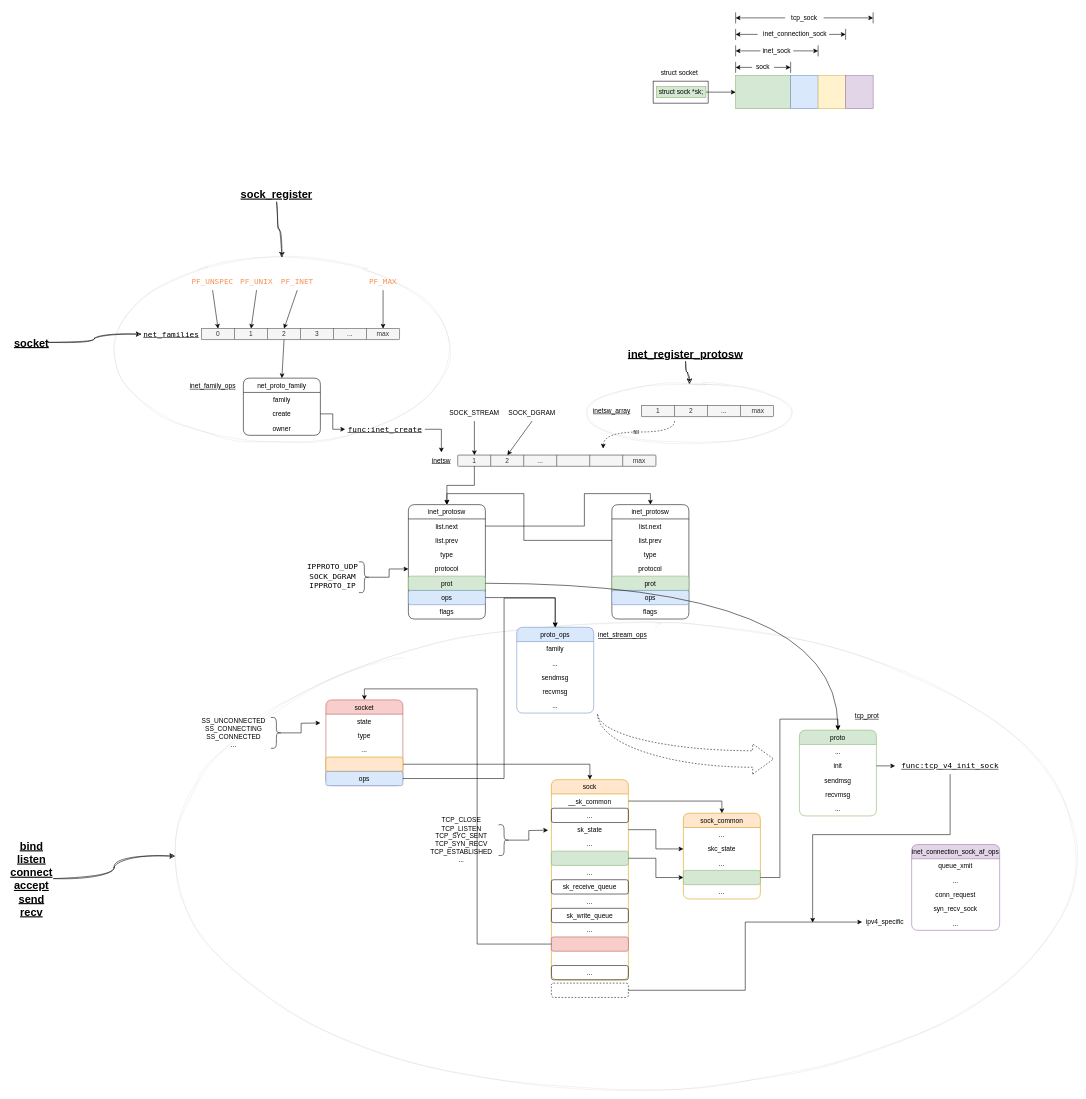
Some shapes in this 1086 by 1099 pixel diagram are drawn without their labels. The shapes that lost their labels are listed below. From the top down, each one's centre as x and y in pixels, then its label:
At point (763, 92): "struct sock".
At point (685, 743): "ref".
At point (364, 764): "sk".
At point (589, 858): "sk_prot".
At point (721, 877): "skc_prot".
At point (589, 943): "sk_socket".
At point (589, 990): "icsk_af_ops".
